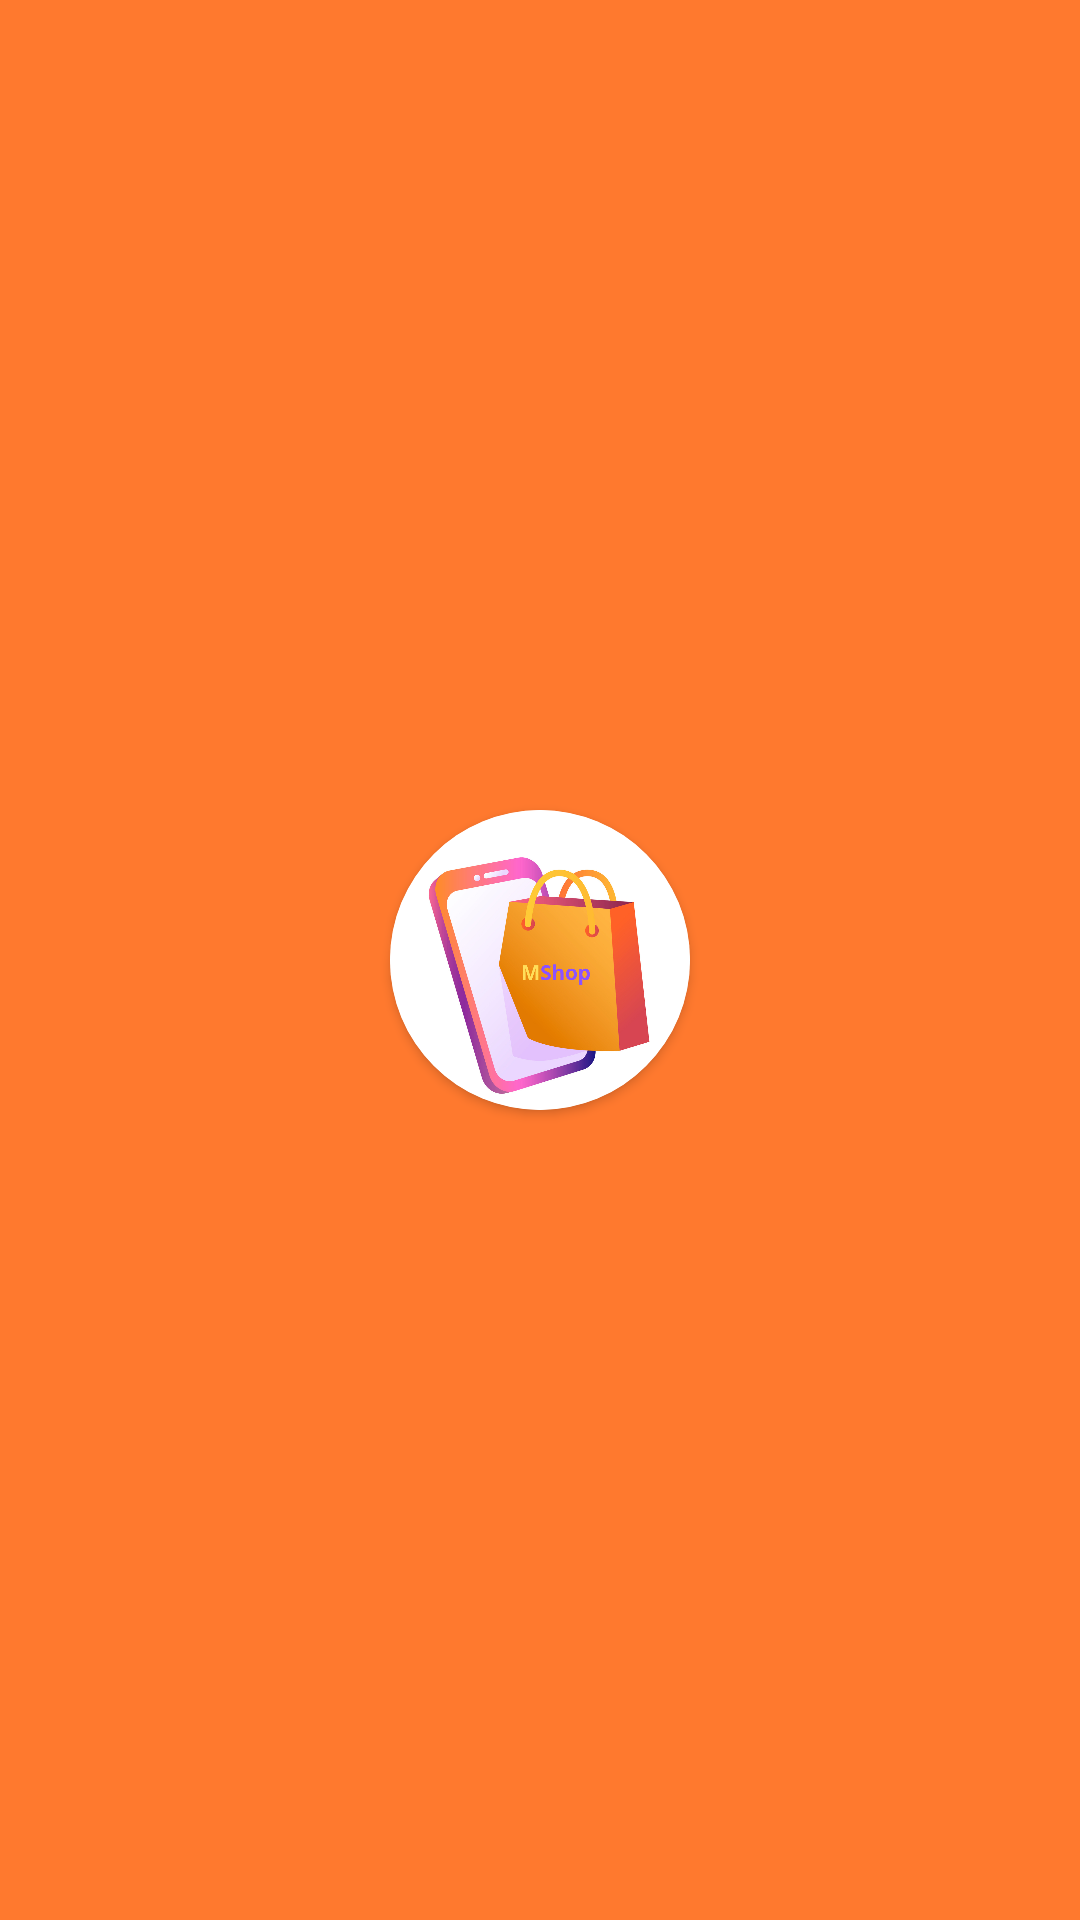

Named icons in this screenshot (1080×1920) and their centers, point (x, y):
app: point (540, 960)
